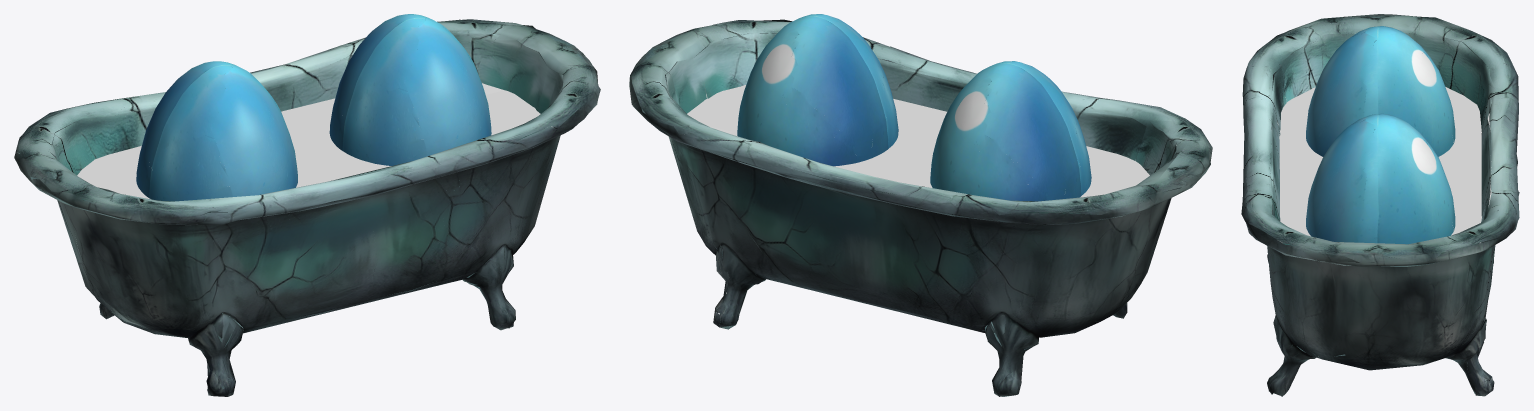
Rendered from baneraLow.glb.
3 renders of one model, left to right at view 1: azimuth 30°, elevation 25°; view 2: azimuth 150°, elevation 25°; view 3: azimuth 270°, elevation 25°, orthographic. The views are drawn at different scales.
Parts seen in each view (by area): view 1: banera, huevo1, huevo2, Plane; view 2: banera, huevo1, huevo2, Plane; view 3: banera, huevo1, huevo2, Plane.
Boxes of the visible parts, bbox=[...] form: banera: bbox=[14, 19, 600, 396]; huevo1: bbox=[329, 14, 491, 165]; huevo2: bbox=[136, 61, 297, 201]; Plane: bbox=[77, 83, 553, 199]; banera: bbox=[629, 19, 1212, 396]; huevo1: bbox=[737, 14, 898, 166]; huevo2: bbox=[930, 61, 1091, 201]; Plane: bbox=[687, 85, 1149, 197]; banera: bbox=[1241, 14, 1519, 396]; huevo1: bbox=[1306, 113, 1455, 244]; huevo2: bbox=[1306, 26, 1455, 156]; Plane: bbox=[1277, 87, 1491, 242].
Bounding box in the file's own units: 1.92 × 0.9346 × 0.9131.
Materials: 2 (2 with a texture image).
